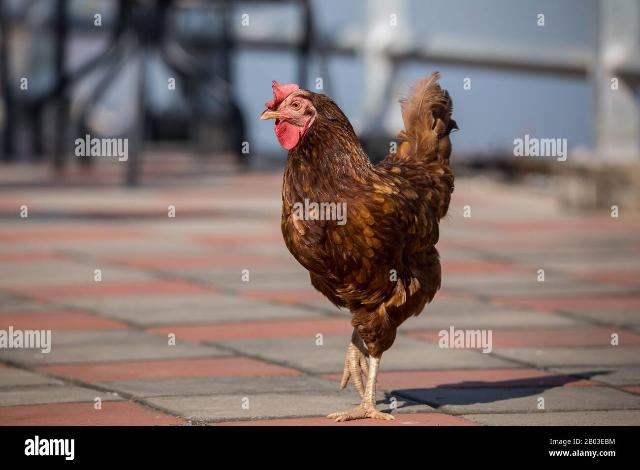Chicken: (261, 69, 460, 424)
